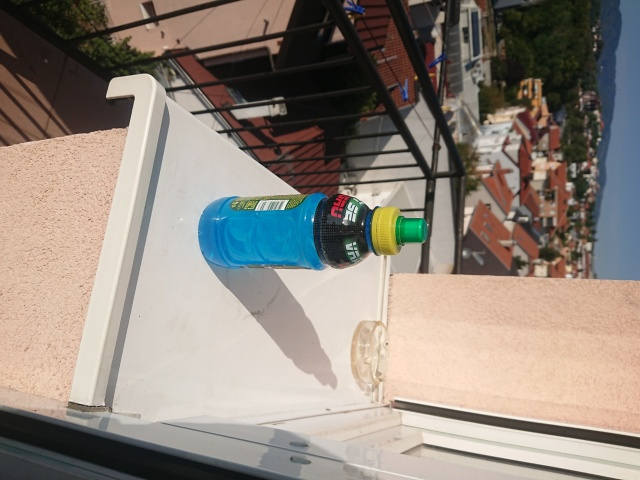Vindi Iso Sport Forest Strawberries 500mL: (194, 191, 430, 272)
